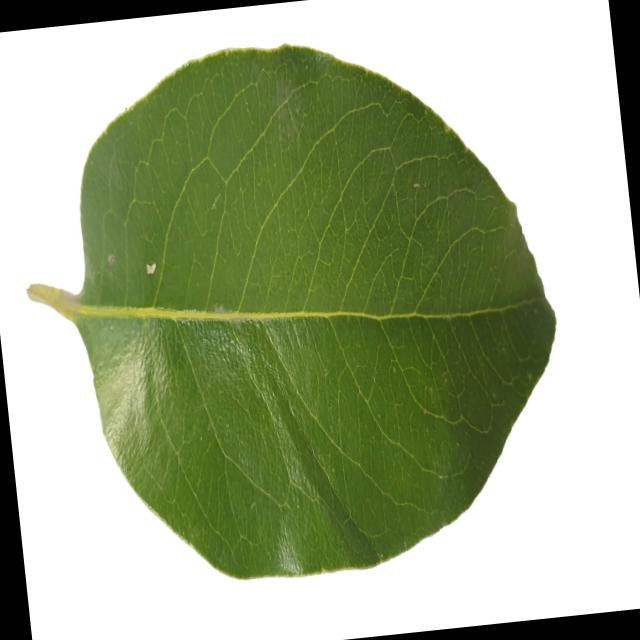Medicinal-Sandalwood: (4, 16, 582, 604)
